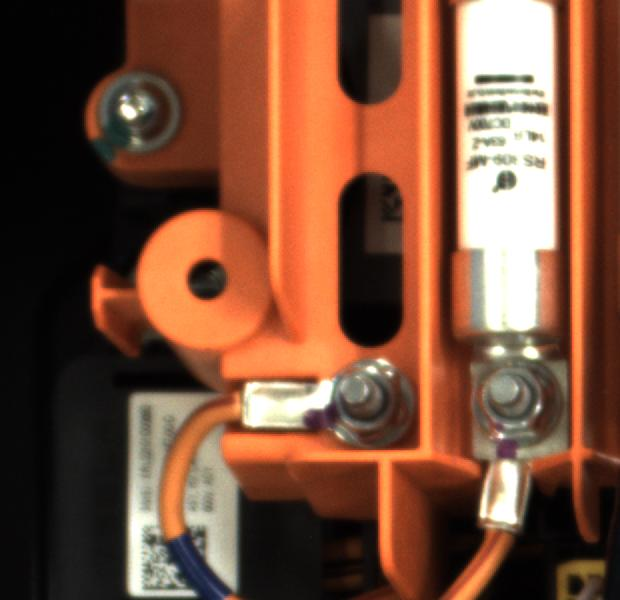screw_m: (84, 56, 196, 164)
screw_s: (470, 353, 568, 451), (322, 349, 413, 439)
